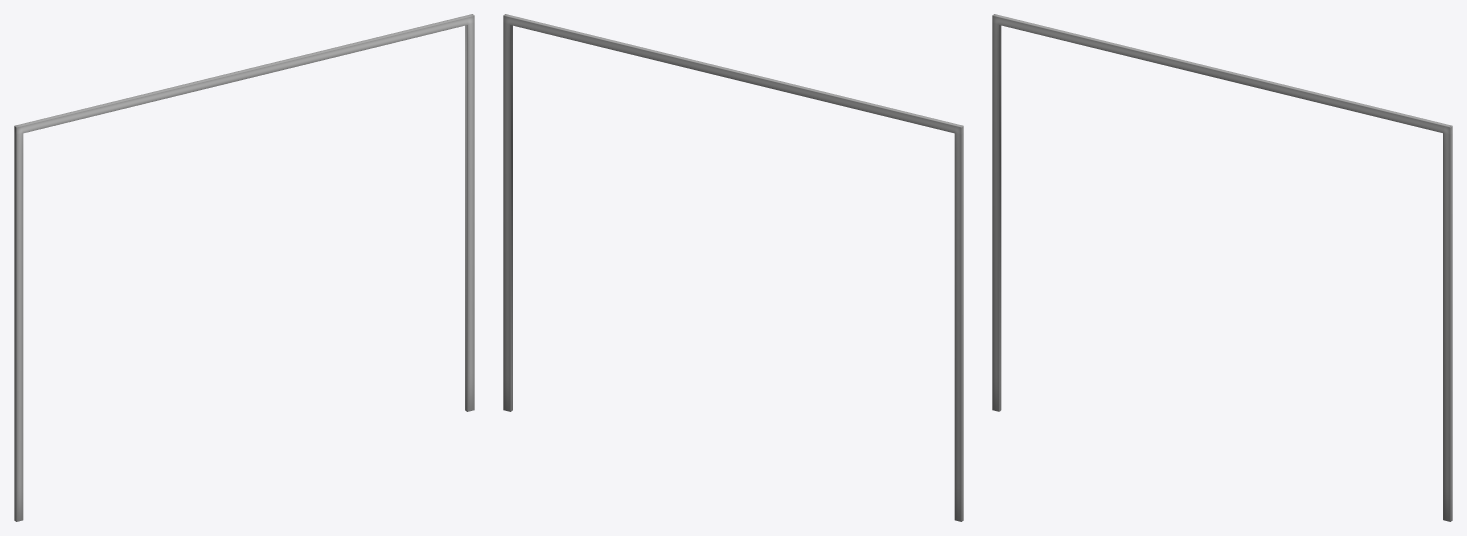
Rendered from DoorFrameLight02_5.FBX.
3 renders of one model, left to right at view 1: azimuth 30°, elevation 25°; view 2: azimuth 150°, elevation 25°; view 3: azimuth 330°, elevation 25°, orthographic.
Visible parts, largest first — view 1: Light02_1; view 2: Light02_1; view 3: Light02_1.
Part boxes in pixels (x1,y1,x2,y2): Light02_1: [14, 14, 474, 521]; Light02_1: [503, 14, 963, 521]; Light02_1: [992, 14, 1452, 521].
Bounding box in the file's own units: 310 × 255 × 2.61.
